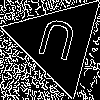U: (32, 17, 79, 71)
